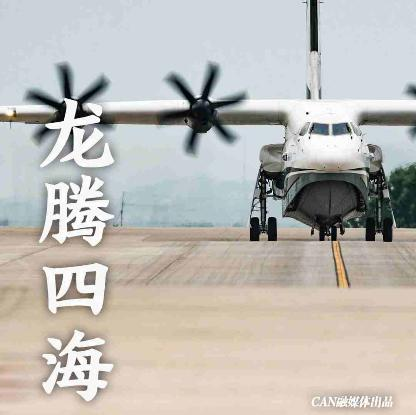AG600: (0, 0, 416, 241)
